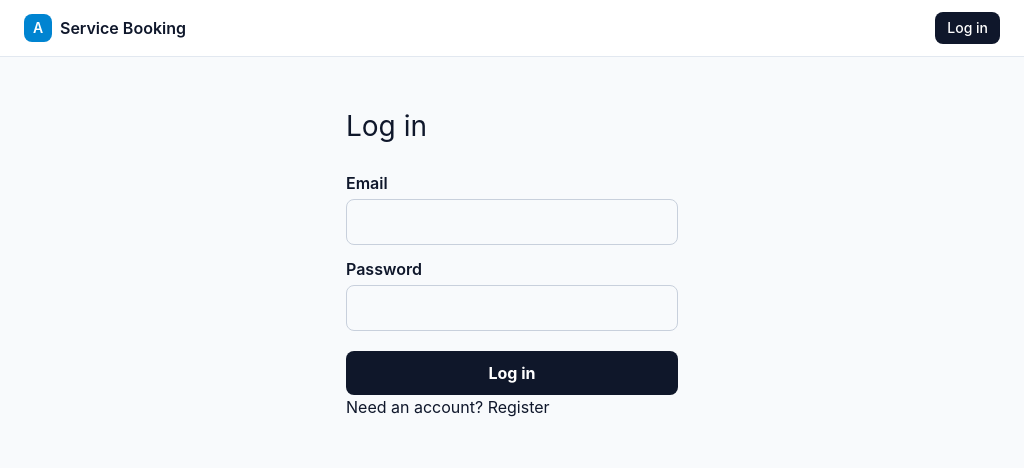
App routing and auth › logs in and reflects the session in the header
This screenshot has width=1024, height=468.
Check: the heading "Log in" is shown, box [346, 109, 427, 143]
Type "dana@example.com" into the field labelled "Email" at (512, 222), box [346, 199, 678, 245]
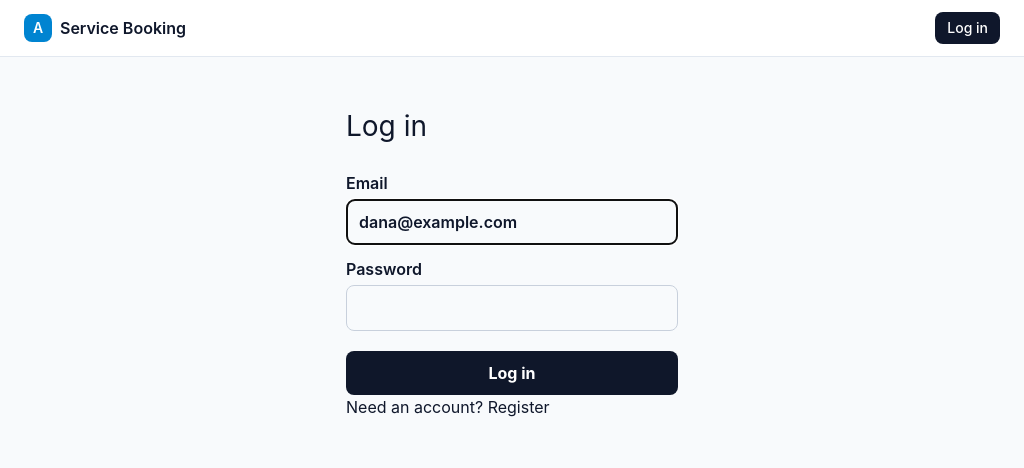
Type "correct-horse-battery-staple" into the password field labelled "Password" at (512, 308), box [346, 285, 678, 331]
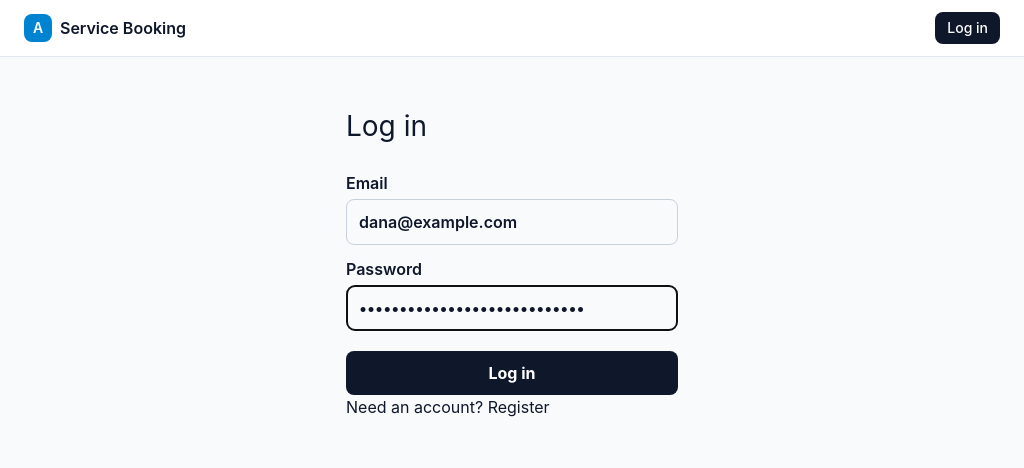
Click the button "Log in" at (512, 373), box [346, 351, 678, 395]
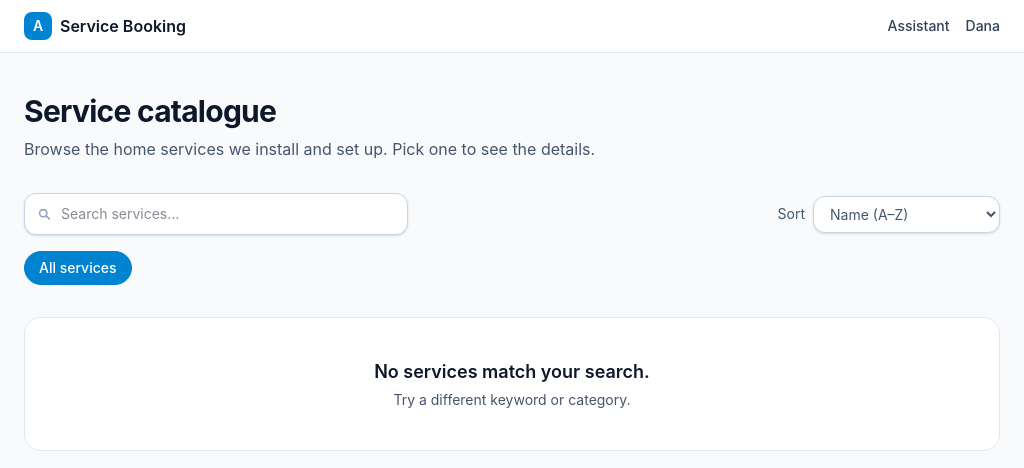
Check: the link "Dana" is shown, box [966, 16, 1000, 36]
